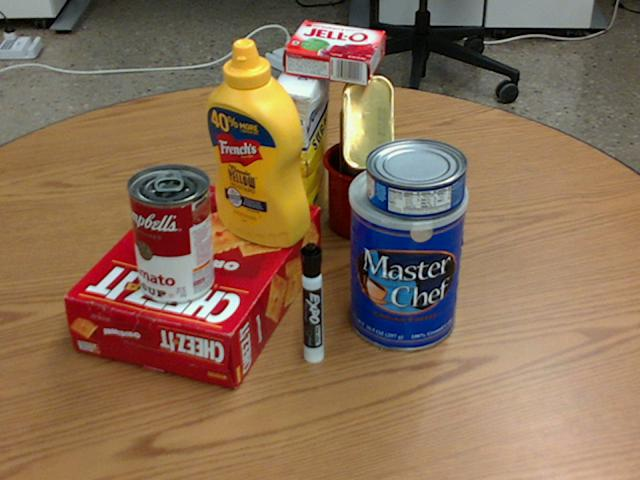cracker_box: (65, 184, 321, 390)
gelatin_box: (280, 22, 384, 85)
large_marker: (301, 243, 323, 363)
master_chef_can: (347, 160, 466, 350)
mug: (325, 136, 432, 239)
mustard_bottle: (203, 38, 308, 246)
potted_meat_can: (338, 76, 393, 191)
sugar_box: (271, 53, 330, 243)
tomato_soup_can: (126, 163, 214, 303)
tuna_fish_can: (364, 137, 466, 218)
